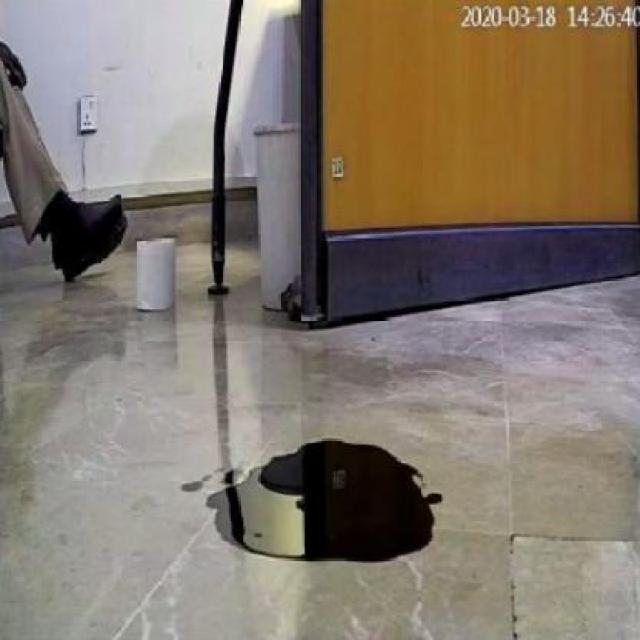spillage: (203, 433, 448, 568)
